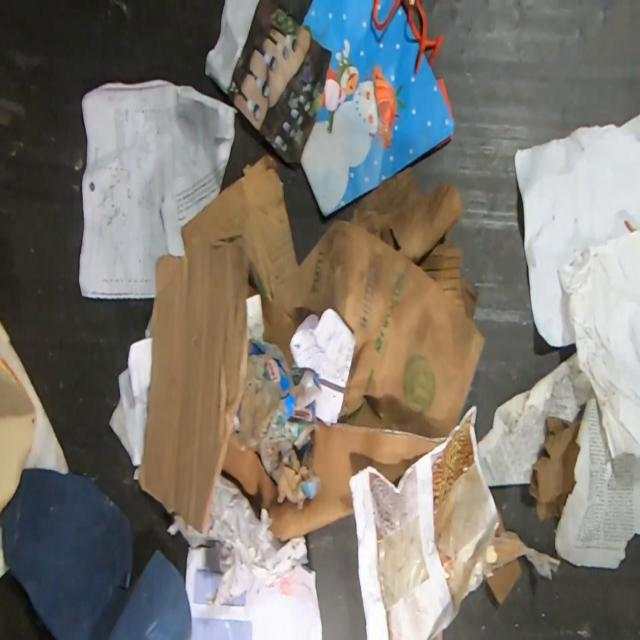cardboard: (182, 155, 486, 542), (301, 0, 455, 218), (0, 466, 192, 639), (140, 245, 250, 533), (350, 169, 480, 321), (529, 413, 582, 522), (0, 358, 36, 514), (485, 559, 523, 606), (494, 520, 507, 535)
soft_plastic: (349, 403, 560, 640)
